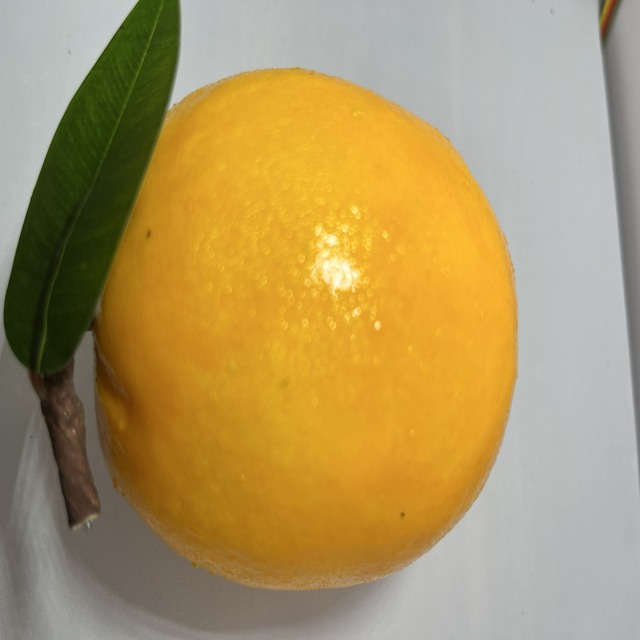Cam vang: (57, 62, 523, 590)
